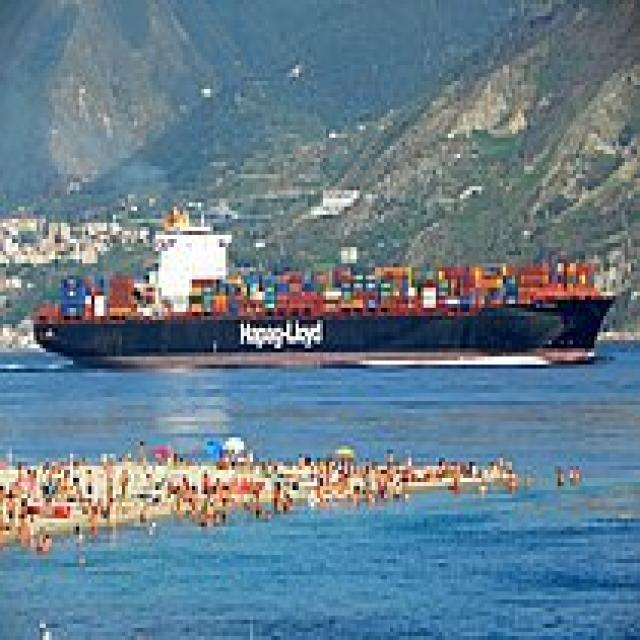Cargo: (24, 194, 616, 364)
